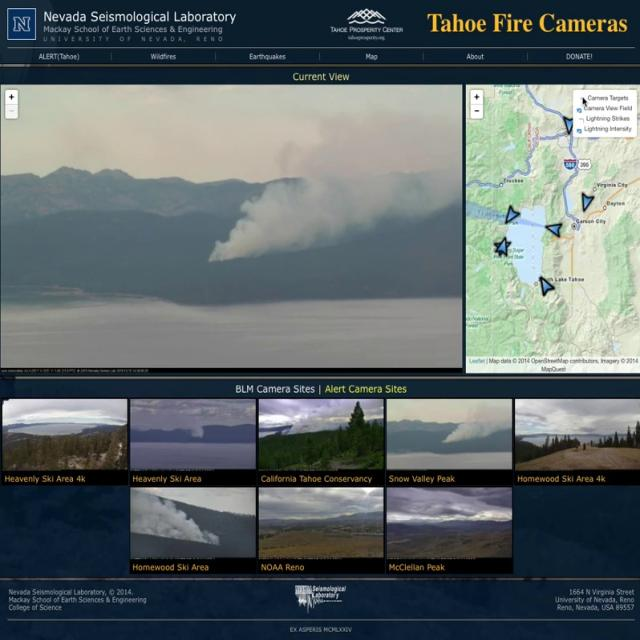smoke: (207, 87, 453, 267)
